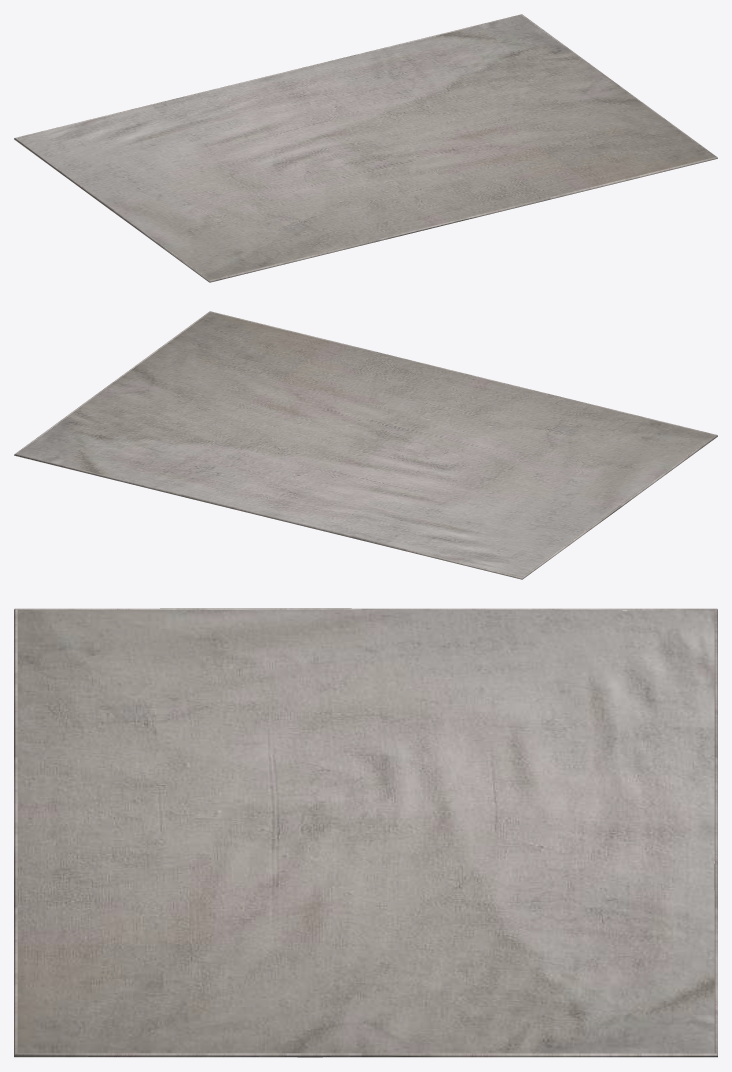
Rendered from carpet_designer.glb.
3 views of the same model, one above another, from view 1: azimuth 30°, elevation 25°; view 2: azimuth 150°, elevation 25°; view 3: azimuth 270°, elevation 25° (orthographic). The views are drawn at different scales.
Parts seen in each view (by area): view 1: Plane.1665, коврик без ободка; view 2: Plane.1665, коврик без ободка; view 3: Plane.1665, коврик без ободка.
Boxes of the visible parts, x1,y1,x2,y2 form: Plane.1665: (17, 15, 714, 279); коврик без ободка: (14, 14, 717, 282); Plane.1665: (17, 312, 714, 576); коврик без ободка: (14, 311, 717, 579); Plane.1665: (17, 610, 714, 1053); коврик без ободка: (14, 608, 717, 1057).
Bounding box in the file's own units: 3 × 0.0199 × 2.
Materials: 2 (2 with a texture image).
